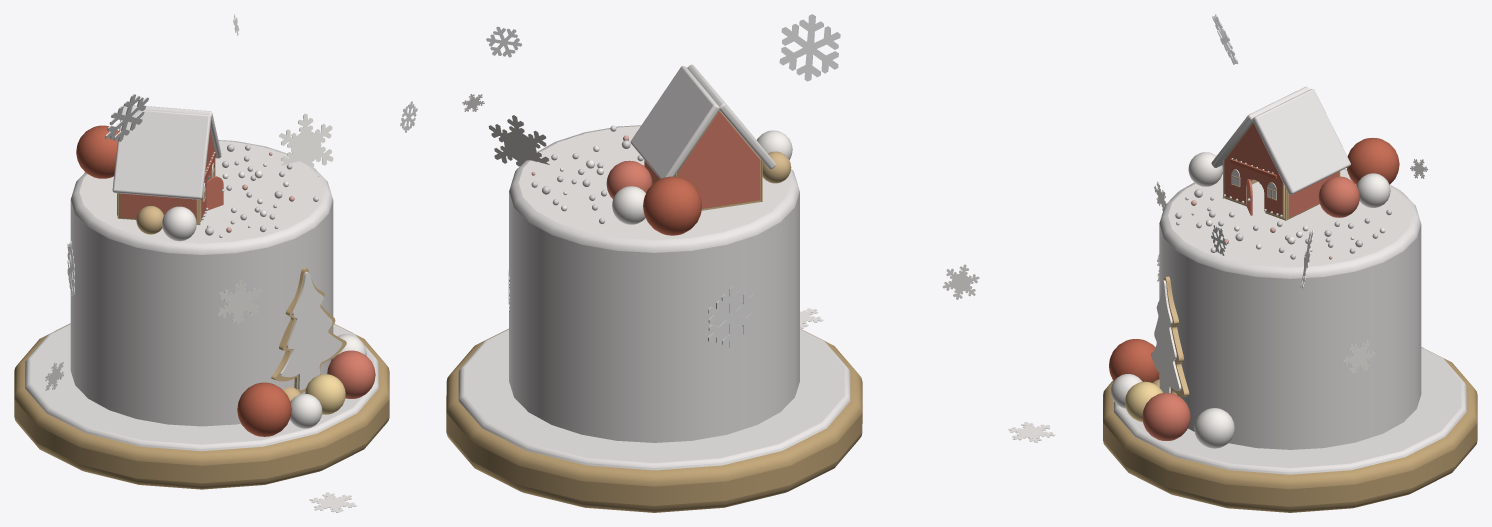
File: handmade-transformed.glb
3 renders of one model, left to right at view 1: azimuth 30°, elevation 25°; view 2: azimuth 150°, elevation 25°; view 3: azimuth 270°, elevation 25°, orthographic. The views are drawn at different scales.
Parts seen in each view (by area): view 1: Cylinder_1, Cylinder, Cube_8, Cap_1_10, Sphere, Sphere_6, Cap_1_6, Sphere_3, Cube, Sphere_4, Cap_1_5, Sphere_7 (+8 smaller); view 2: Cylinder_1, Cylinder, Cube_2_2, Cube_6, Sphere_6, Cap_2, Cap_2_6, Cap_2_3, Sphere_9, Cube_8, Sphere_10, Cap_2_8 (+3 smaller); view 3: Cylinder_1, Cylinder, Cube_6, Cube_1_2, Sphere_3, Sphere_6, Sphere, Cap_1_10, Sphere_9, Sphere_5, Cube_5_2, Sphere_10 (+7 smaller).
Part boxes in pixels (x1=…): Cylinder_1: x1=70, y1=140, x2=333, y2=426; Cylinder: x1=14, y1=323, x2=389, y2=489; Cube_8: x1=112, y1=108, x2=211, y2=199; Cap_1_10: x1=281, y1=272, x2=342, y2=390; Sphere: x1=237, y1=382, x2=291, y2=436; Sphere_6: x1=76, y1=125, x2=118, y2=178; Cap_1_6: x1=280, y1=114, x2=333, y2=166; Sphere_3: x1=327, y1=350, x2=375, y2=398; Cube: x1=117, y1=193, x2=200, y2=224; Sphere_4: x1=305, y1=374, x2=345, y2=414; Cap_1_5: x1=218, y1=280, x2=260, y2=324; Sphere_7: x1=162, y1=206, x2=196, y2=241; Cylinder_1: x1=509, y1=125, x2=799, y2=442; Cylinder: x1=446, y1=328, x2=862, y2=512; Cube_2_2: x1=674, y1=110, x2=762, y2=210; Cube_6: x1=630, y1=66, x2=719, y2=178; Sphere_6: x1=643, y1=176, x2=701, y2=235; Cap_2: x1=779, y1=14, x2=840, y2=81; Cap_2_6: x1=488, y1=115, x2=549, y2=169; Cap_2_3: x1=708, y1=286, x2=756, y2=348; Sphere_9: x1=606, y1=160, x2=652, y2=198; Cube_8: x1=687, y1=64, x2=775, y2=169; Sphere_10: x1=612, y1=186, x2=645, y2=224; Cap_2_8: x1=942, y1=264, x2=979, y2=299; Cylinder_1: x1=1159, y1=169, x2=1421, y2=449; Cylinder: x1=1103, y1=347, x2=1477, y2=512; Cube_6: x1=1252, y1=89, x2=1350, y2=194; Cube_1_2: x1=1224, y1=122, x2=1284, y2=220; Sphere_3: x1=1142, y1=392, x2=1190, y2=440; Sphere_6: x1=1347, y1=138, x2=1399, y2=185; Sphere: x1=1109, y1=339, x2=1159, y2=382; Cap_1_10: x1=1151, y1=281, x2=1179, y2=392; Sphere_9: x1=1318, y1=176, x2=1359, y2=217; Sphere_5: x1=1194, y1=408, x2=1234, y2=448; Cube_5_2: x1=1285, y1=171, x2=1339, y2=220; Sphere_10: x1=1356, y1=173, x2=1390, y2=207.
Bounding box in the file's own units: 186 × 161 × 185.
